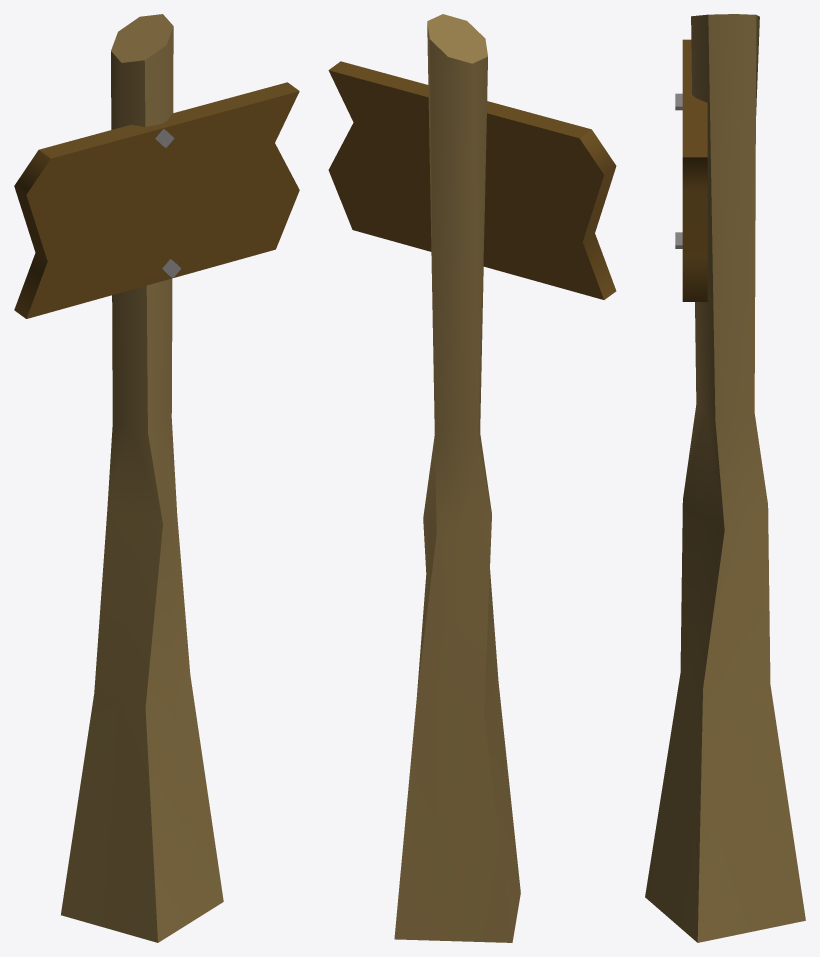
The model's file is mesh_post_2.fbx.
The picture shows the model from 3 angles, left to right: view 1: azimuth 30°, elevation 25°; view 2: azimuth 150°, elevation 25°; view 3: azimuth 270°, elevation 25°; orthographic projection. The views are drawn at different scales.
Visible parts, largest first — view 1: post_2; view 2: post_2; view 3: post_2.
Boxes of the visible parts, x1,y1,x2,y2 form: post_2: (14,14,299,942); post_2: (328,14,616,942); post_2: (645,14,805,942).
Size of the model in its own units: 100 by 309 by 49.71.
Materials: 1 (1 with a texture image).
